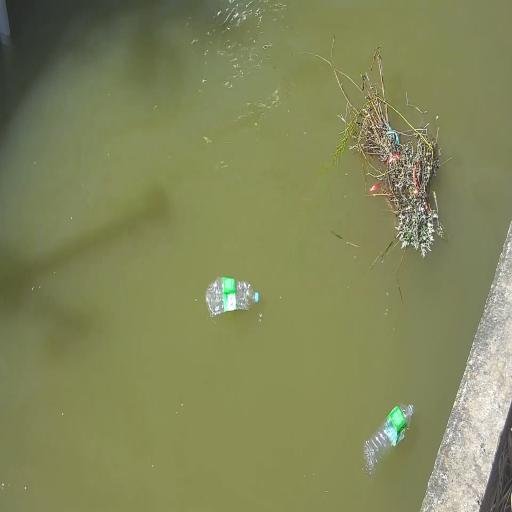plastic: (364, 404, 413, 478), (206, 277, 258, 316), (254, 292, 258, 302)
twig: (326, 47, 443, 257)
